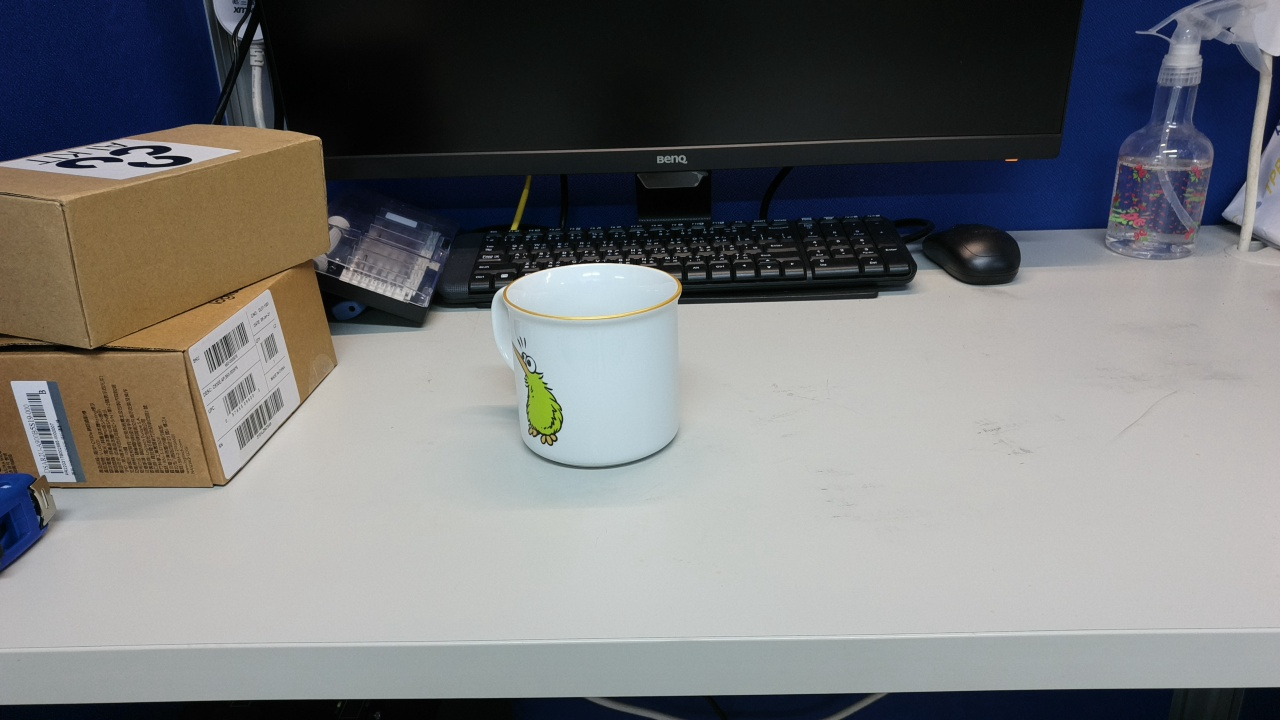circle: (512, 367, 639, 456)
